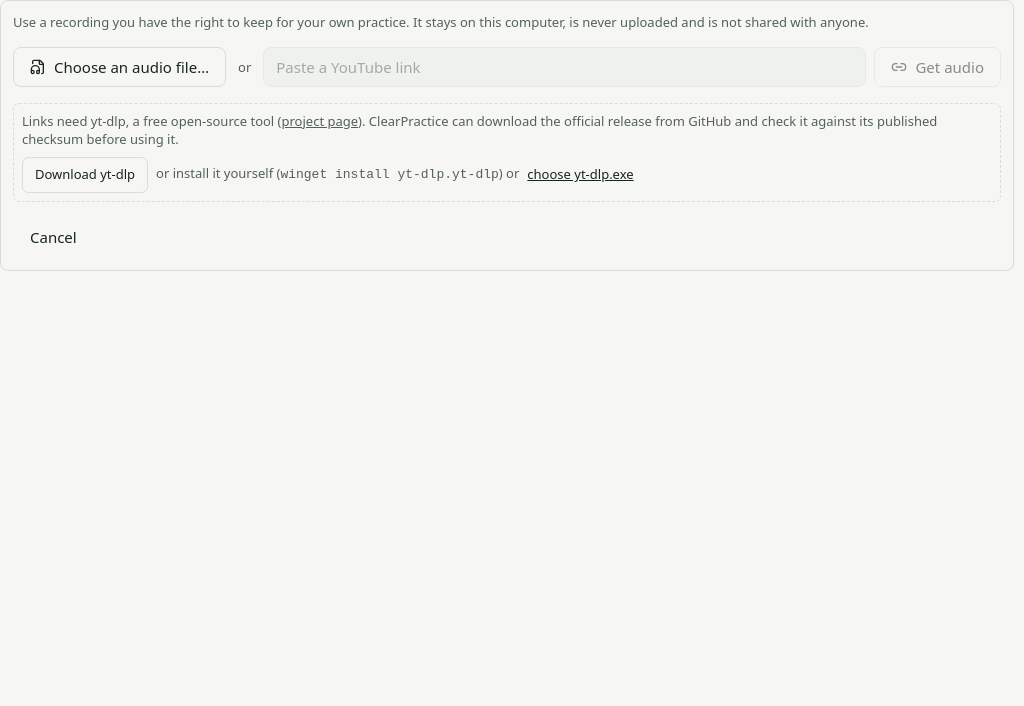
Test: splits with a cloud provider only after the usual preview and an explicit Send (4.4c)
The image size is (1024, 706).
Click the button "Choose an audio file…" at (120, 67), box [13,47,226,87]
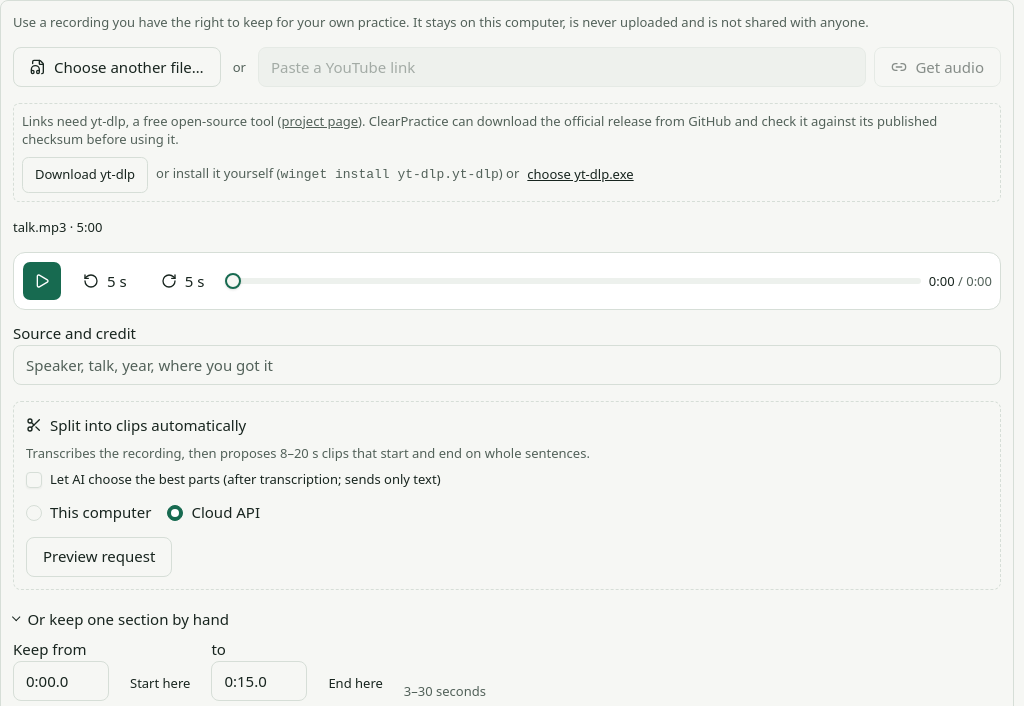
expect the text "talk.mp3 · 5:00" is shown: met, box [13,218,102,236]
expect the radio button named "Cloud API" next to "Cloud API" is checked: met, box [167,505,183,521]
Click the button "Preview request" at (99, 557), box [26,537,172,577]
(page scrolled)
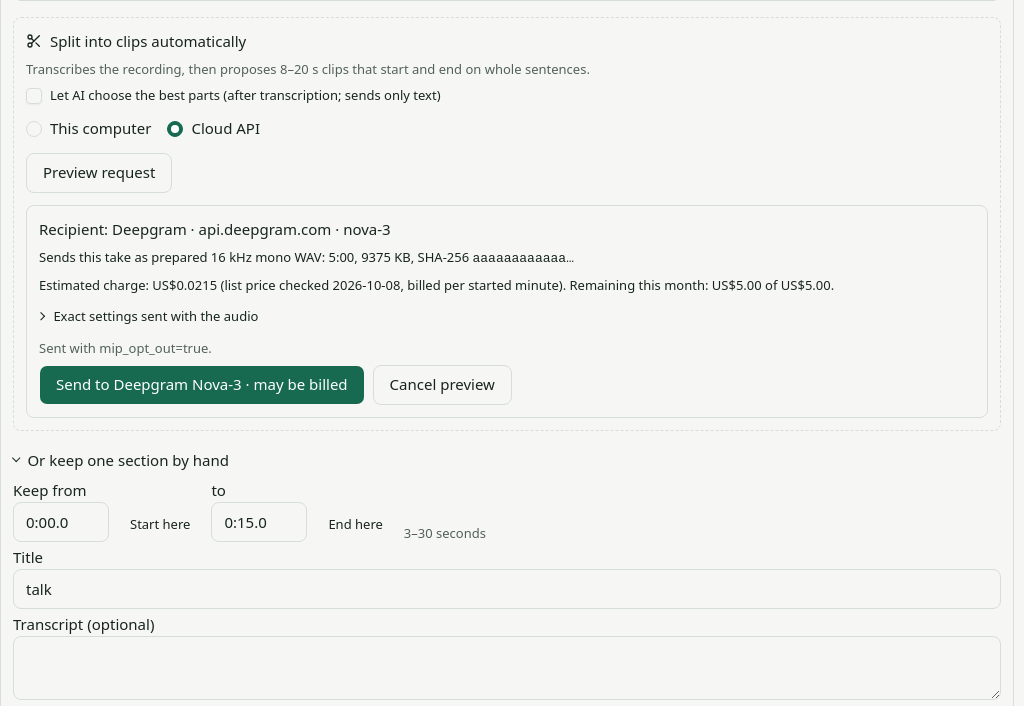
Click the button "Send to Deepgram Nova-3 · may be billed" at (202, 385), box [39,365,365,405]
(page scrolled)
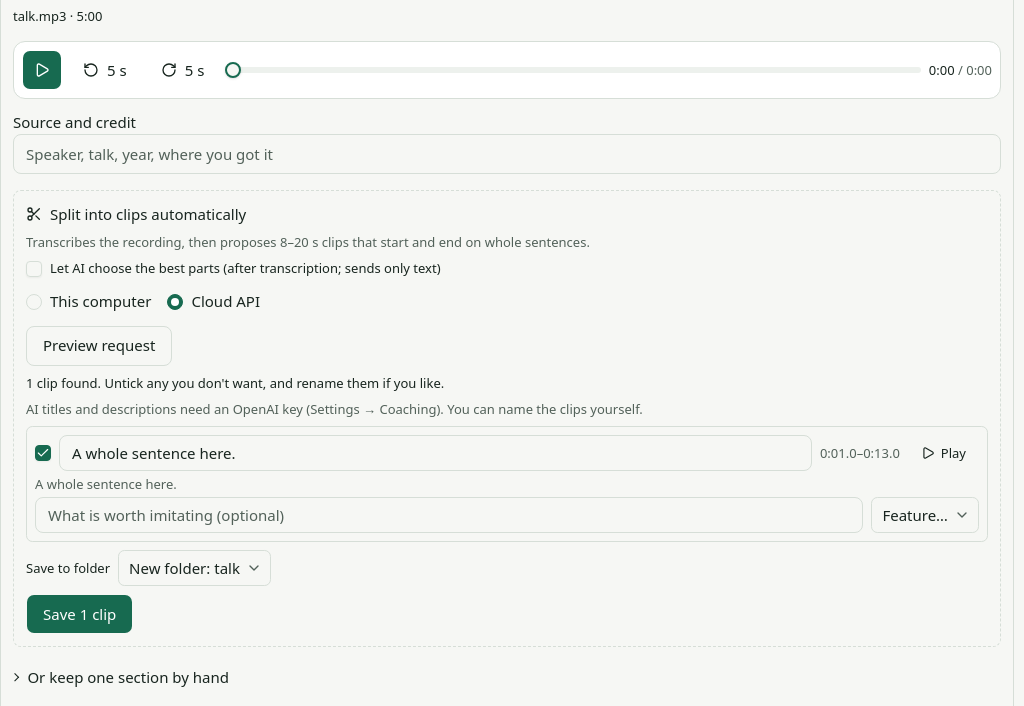
expect the text "1 clip found. Untick any you don't want, and rename them if you like." is shown: met, box [26,374,444,392]
